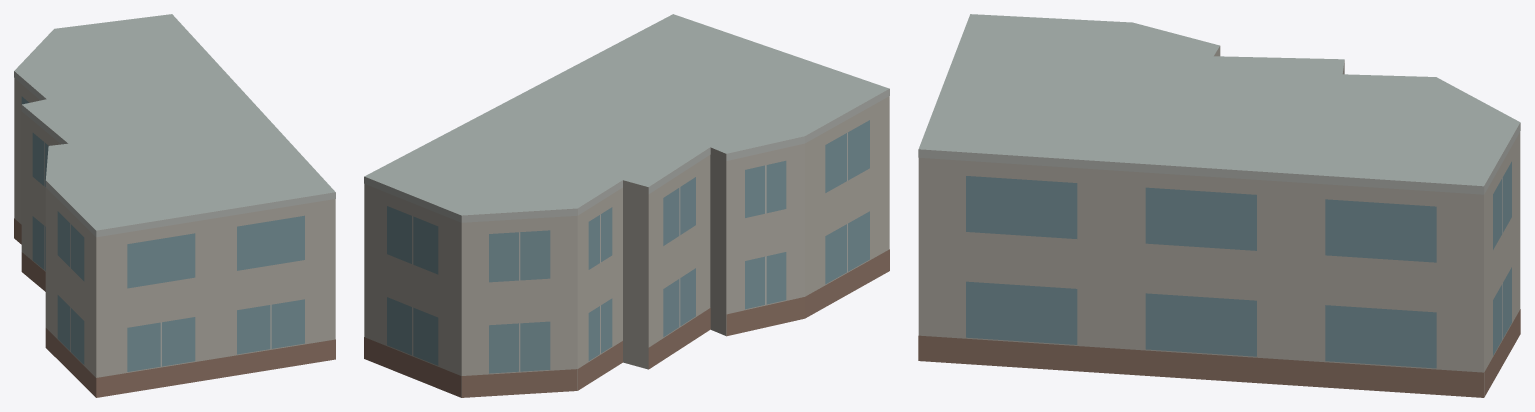
The model's file is survey-upis-32939332.glb.
The picture shows the model from 3 angles, left to right: view 1: azimuth 30°, elevation 25°; view 2: azimuth 150°, elevation 25°; view 3: azimuth 270°, elevation 25°; orthographic projection. The views are drawn at different scales.
Parts seen in each view (by area): view 1: survey-upis-32939332.tmp; view 2: survey-upis-32939332.tmp; view 3: survey-upis-32939332.tmp.
Boxes of the visible parts, box(x1,y1,x2,y2) form: survey-upis-32939332.tmp: box(14, 14, 335, 397); survey-upis-32939332.tmp: box(364, 14, 889, 397); survey-upis-32939332.tmp: box(918, 14, 1520, 397).
Size of the model in its own units: 10.66 by 6.1 by 15.74.
